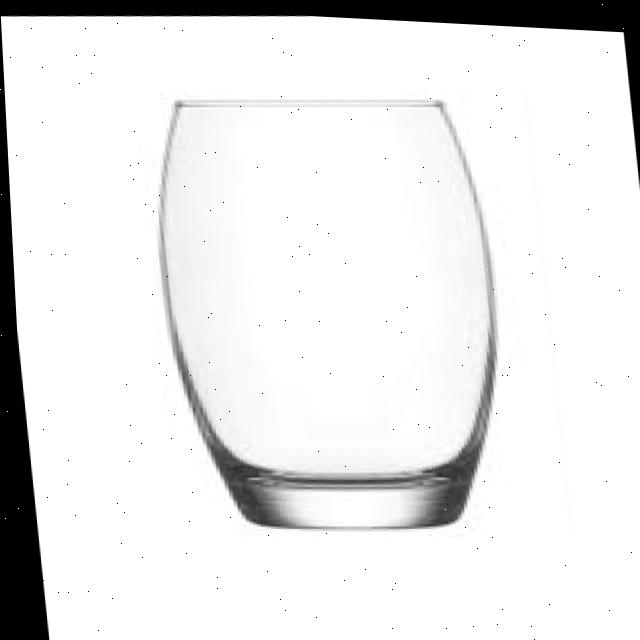Dry: (136, 71, 519, 543)
